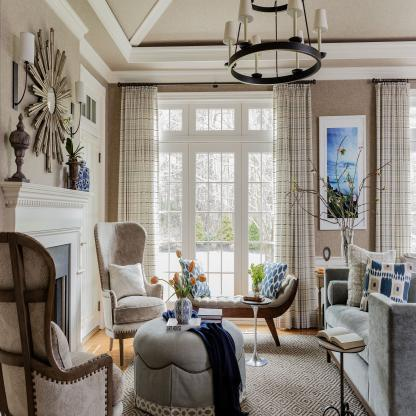chair: (0, 222, 121, 416), (80, 217, 169, 371)
light: (218, 0, 332, 96), (7, 26, 39, 112), (67, 76, 92, 140)
sofa: (324, 245, 416, 416), (186, 272, 310, 344)
table: (126, 314, 257, 416), (313, 324, 368, 416)
